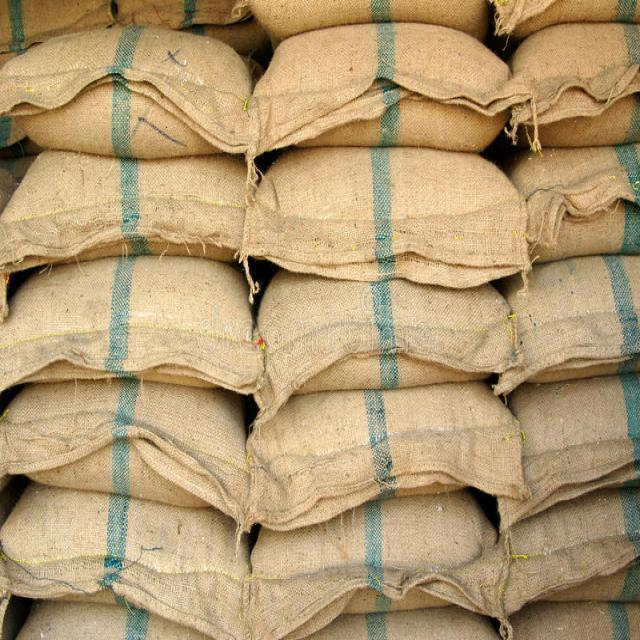gunny_bag: (234, 134, 526, 293), (240, 481, 518, 639), (254, 248, 518, 406), (2, 480, 254, 639), (2, 372, 254, 526), (2, 256, 264, 404), (245, 377, 532, 511), (6, 24, 260, 175), (245, 24, 506, 159), (5, 141, 246, 282), (474, 370, 640, 526), (495, 248, 639, 388), (498, 130, 640, 266), (504, 17, 640, 158), (492, 499, 639, 627)
